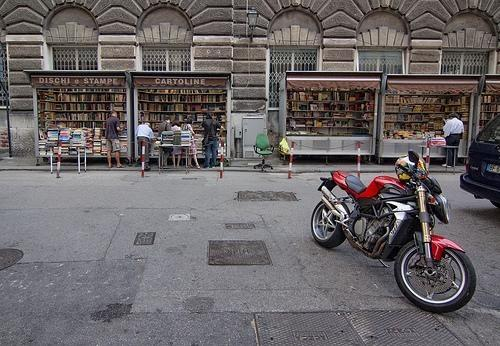car: (461, 114, 500, 209)
motorcycle: (310, 150, 477, 312)
